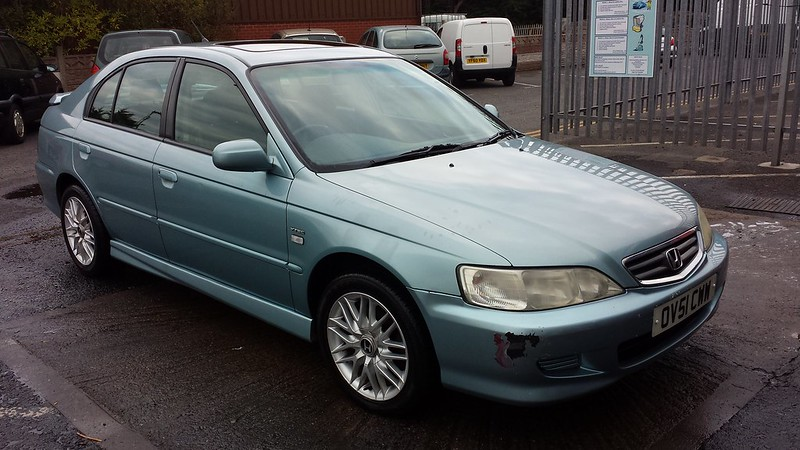number_plate: (639, 273, 743, 339)
